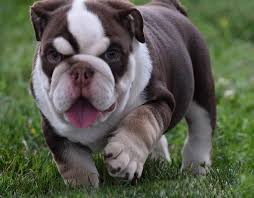Bulldog: (18, 2, 235, 182)
